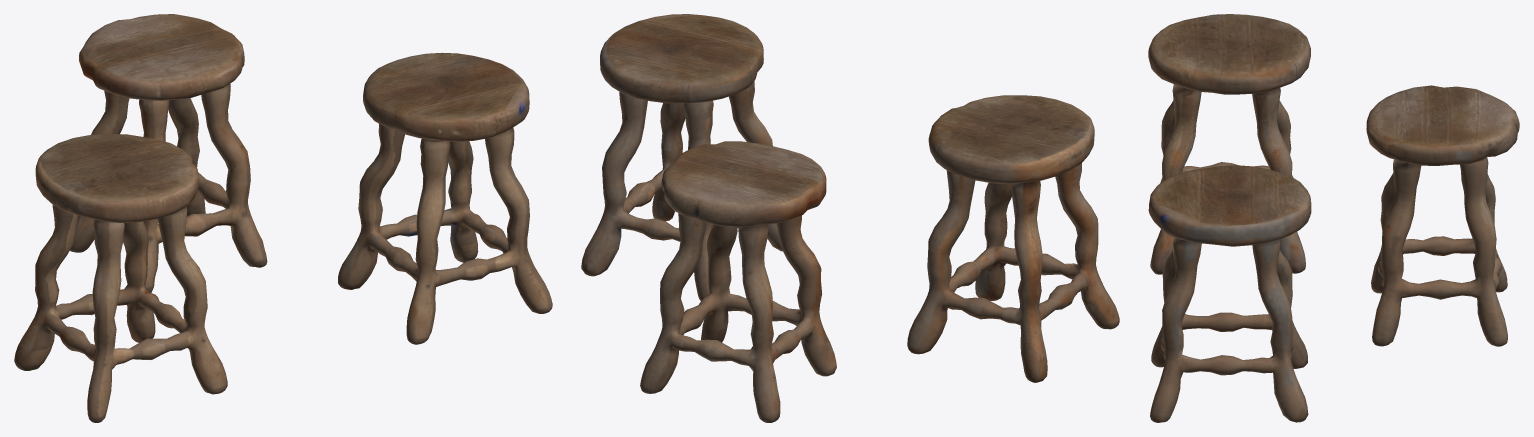
Rendered from creepy_very_old_woode_0124125729_stylize.fbx.
The picture shows the model from 3 angles, left to right: view 1: azimuth 30°, elevation 25°; view 2: azimuth 150°, elevation 25°; view 3: azimuth 270°, elevation 25°; orthographic projection. The views are drawn at different scales.
Visible parts, largest first — view 1: Mesh_0.002; view 2: Mesh_0.002; view 3: Mesh_0.002.
Part boxes in pixels (x1,y1,x2,y2): Mesh_0.002: [14, 14, 552, 422]; Mesh_0.002: [581, 14, 1119, 422]; Mesh_0.002: [1148, 14, 1519, 422].
Size of the model in its own units: 2293 by 1000 by 1670.
1 material, 1 textured.
